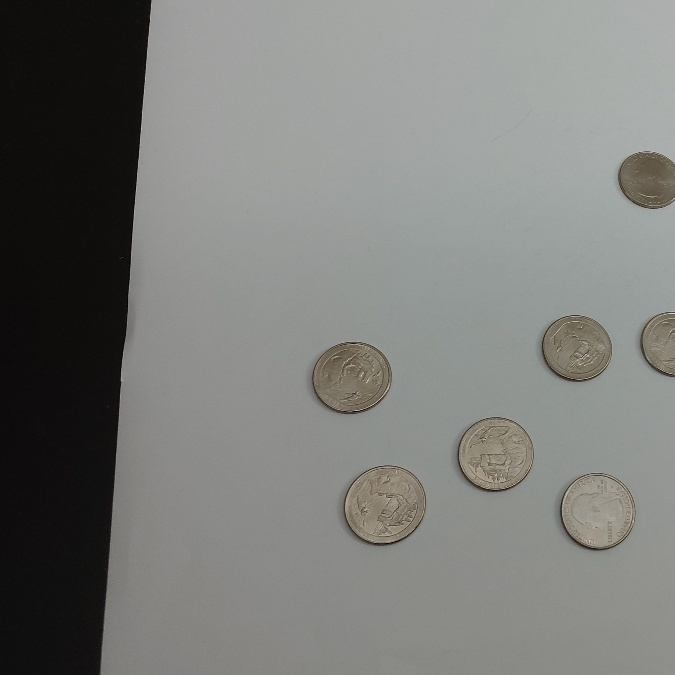coin_quarter: (340, 463, 430, 547), (307, 335, 396, 419), (556, 470, 635, 552), (536, 307, 613, 382), (456, 416, 532, 491)
